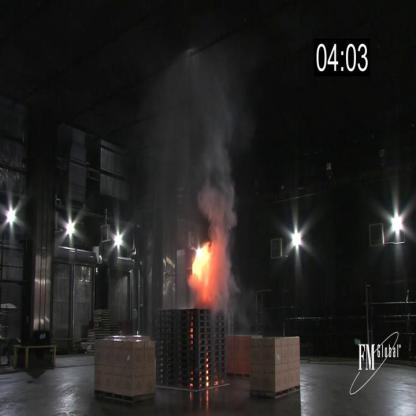fire: (187, 237, 215, 299)
